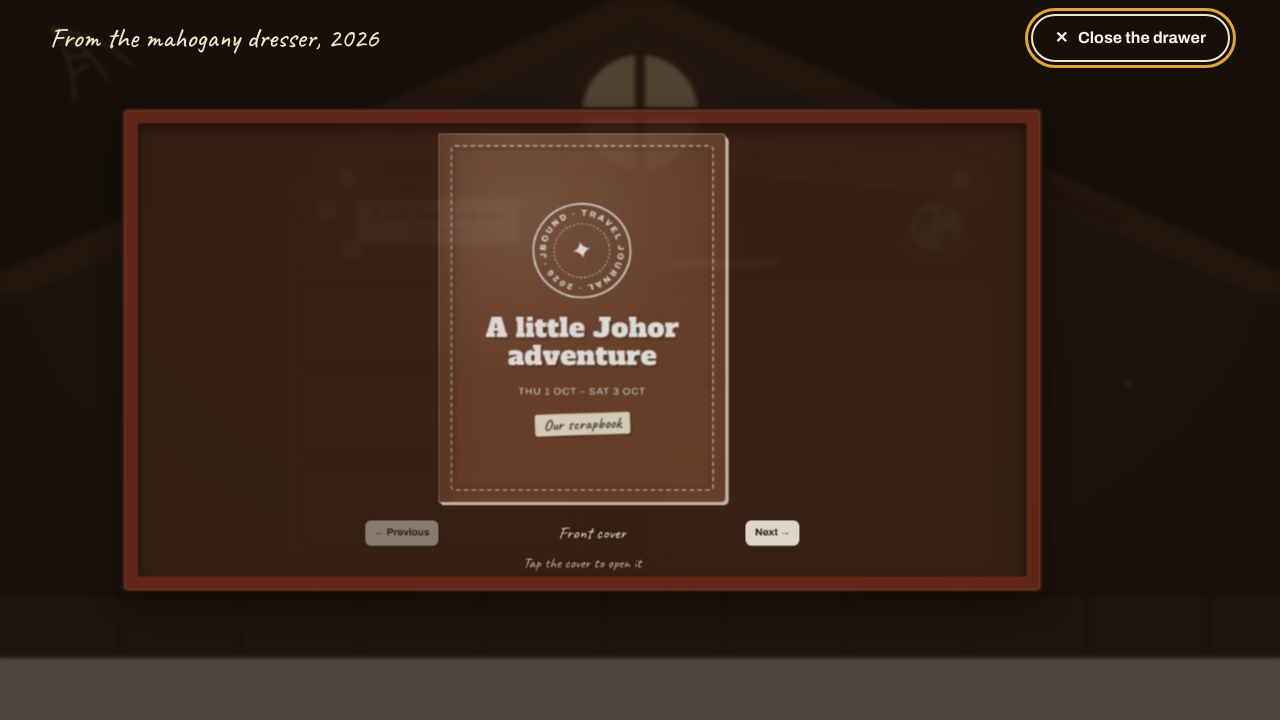
Test: ArchivesView › loads the trip, photos and ledger into a closed scrapbook
Check: the dialog shows "From the mahogany dresser, 2026", box [50,20,378,55]
Check: the element with class "front" shows "A little Johor adventure", box [503,331,728,406]
What coordinates should you click on to do the following:
click the button with class "open-cover"
I would click on:
 (616, 340)
Its box is [449,121,782,559].
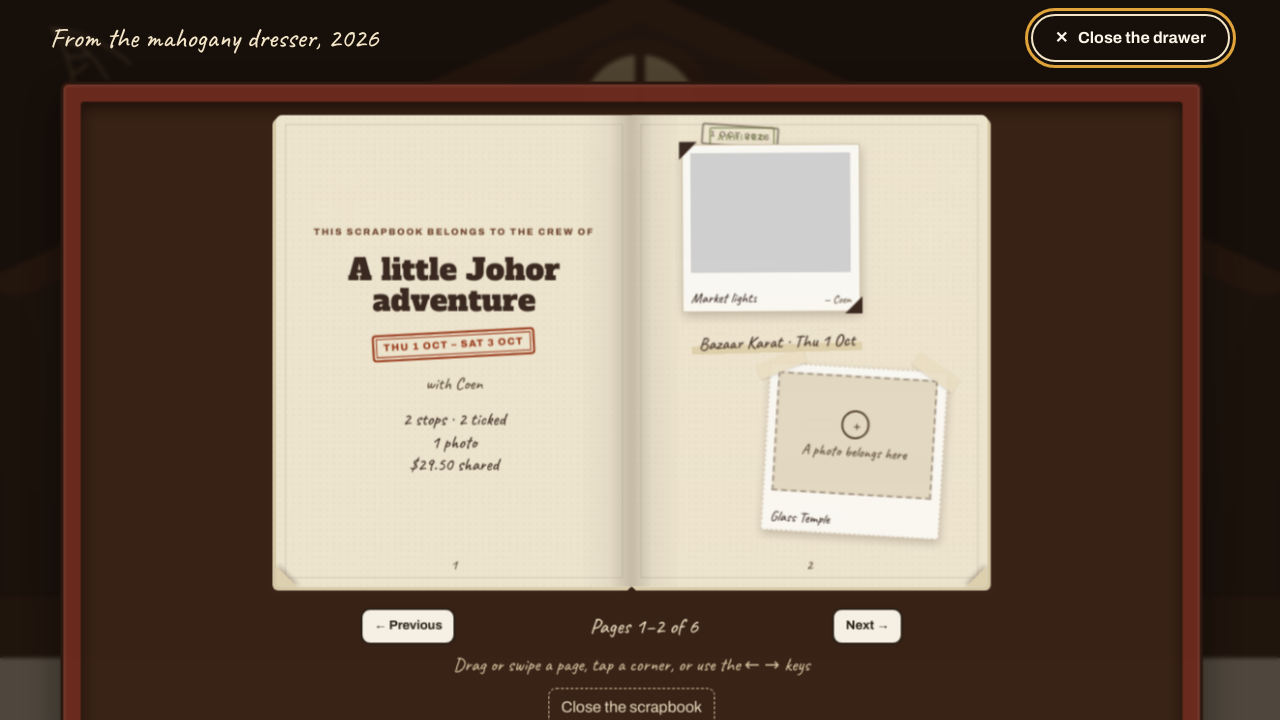
Check: the text "Pages 1–2 of 6" is shown, box [596,625,707,651]
